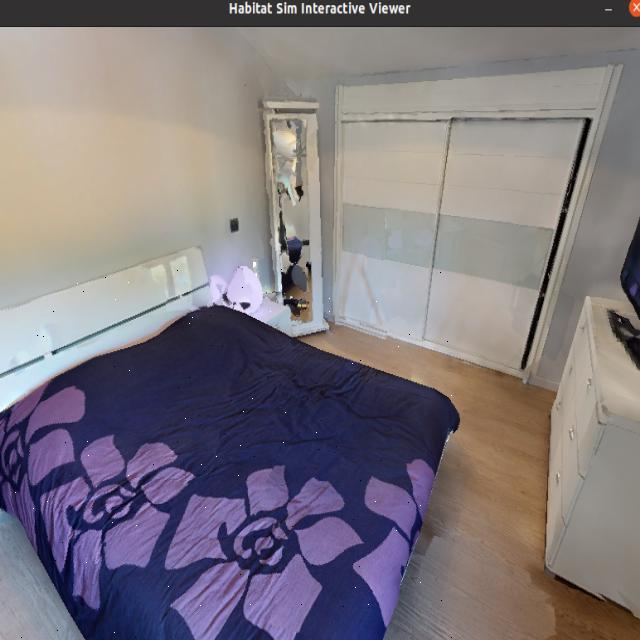bed: (0, 257, 470, 640)
